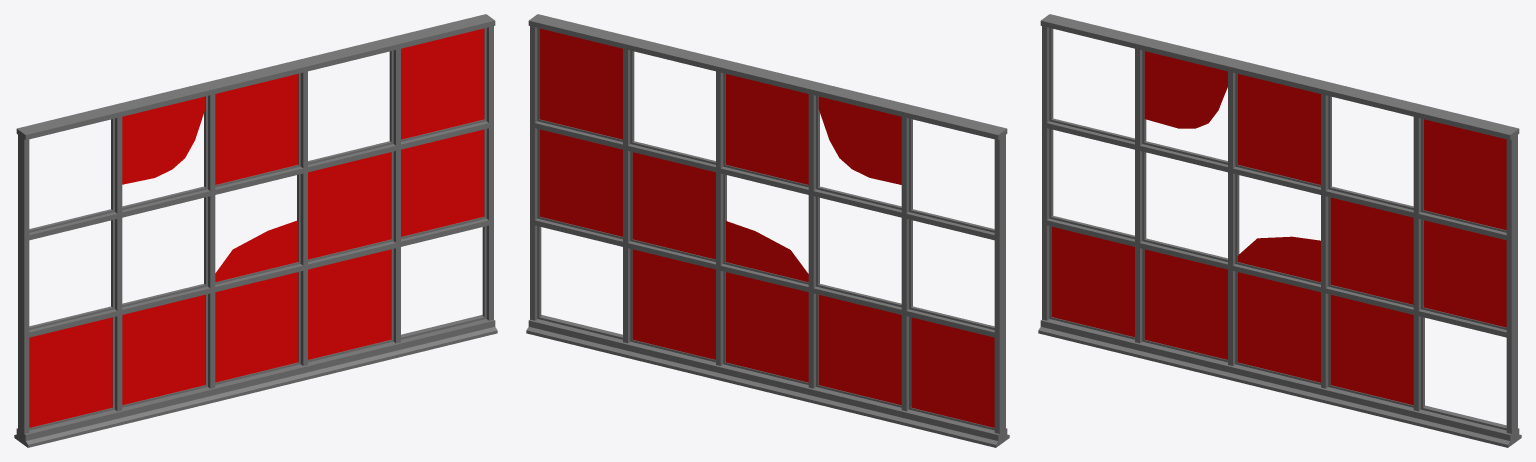
The model's file is Window02_Broken03.fbx.
The picture shows the model from 3 angles, left to right: view 1: azimuth 30°, elevation 25°; view 2: azimuth 150°, elevation 25°; view 3: azimuth 330°, elevation 25°; orthographic projection.
Parts seen in each view (by area): view 1: Window02_Broken03; view 2: Window02_Broken03; view 3: Window02_Broken03.
Boxes of the visible parts, x1,y1,x2,y2 form: Window02_Broken03: (14, 14, 497, 447); Window02_Broken03: (526, 14, 1009, 447); Window02_Broken03: (1038, 14, 1521, 447).
Size of the model in its own units: 240 by 152 by 12.
